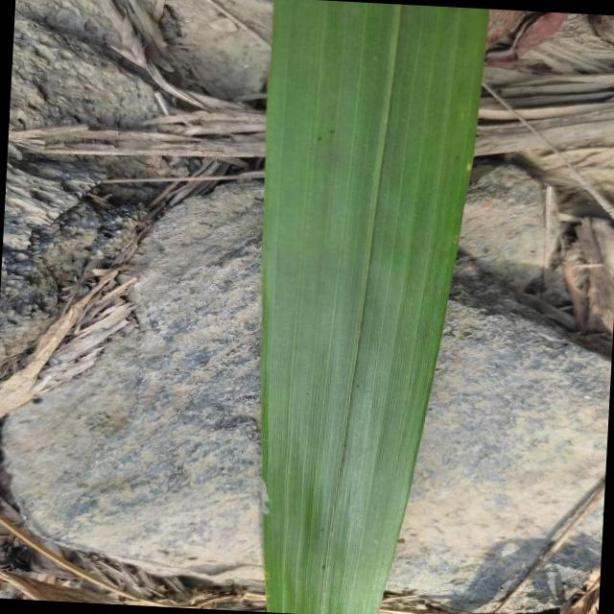Healthy: (259, 0, 486, 614)
